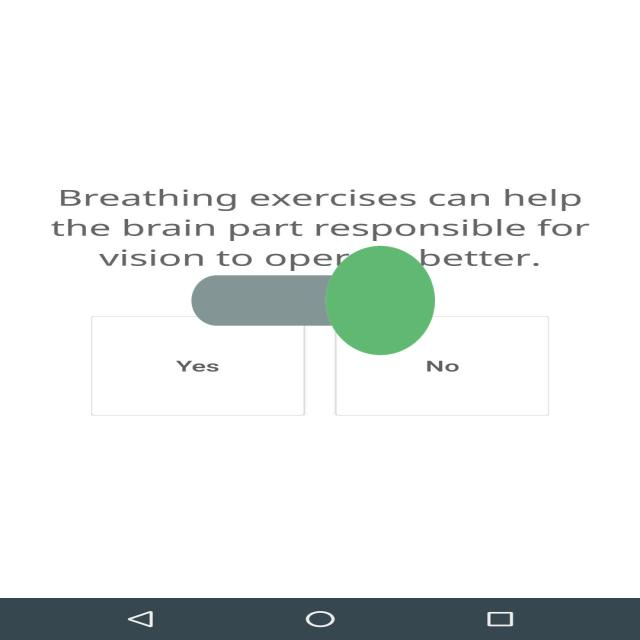social proof: (191, 179, 435, 422)
